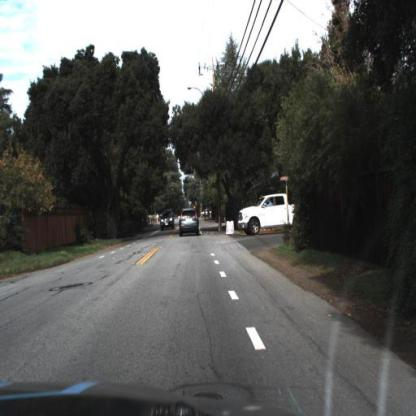car: (232, 187, 305, 238), (174, 202, 204, 245), (152, 207, 174, 238)
